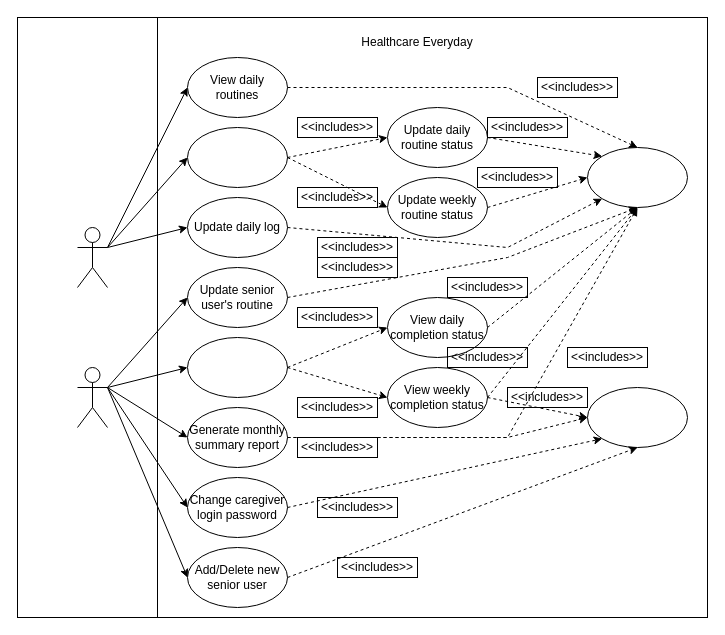
The diagram is 725 pixels wide and 635 high, and some of its shapes have lost their labels. Here are the shapes that lost their labels. From the top down, the centre of each, then its label:
At (237,157): "Update routine completion status".
At (637,177): "Access current day record".
At (92,257): "Senior".
At (237,367): "View task completion history of senior".
At (92,397): "Caregiver".
At (637,417): "Access past records".
